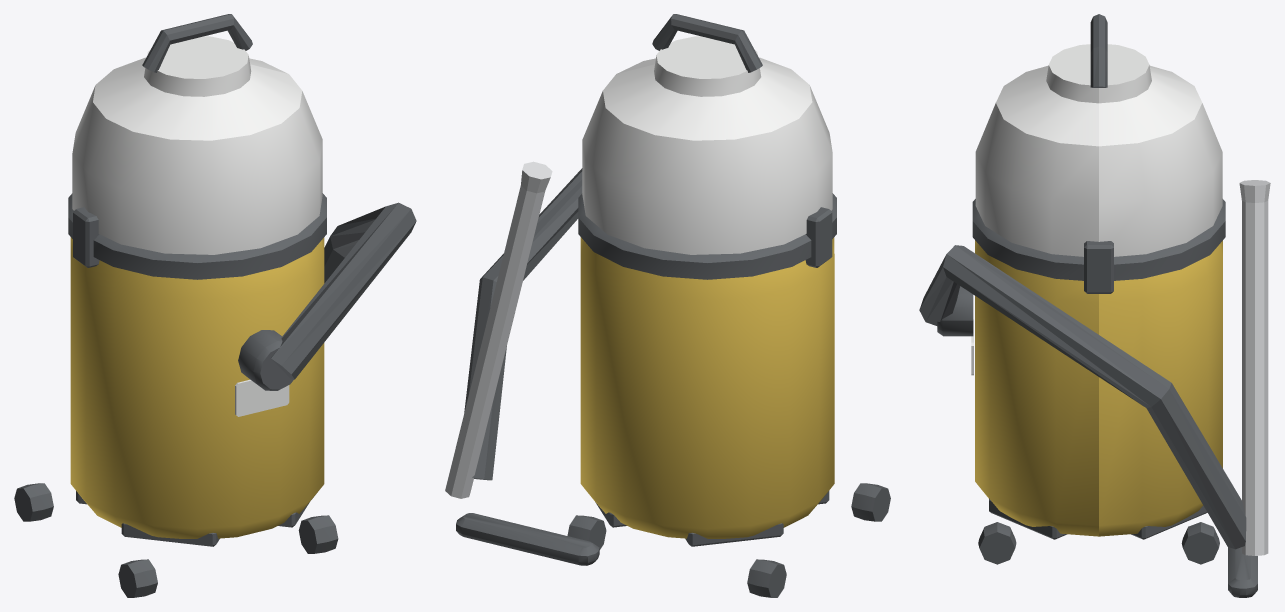
Rendered from laundrette-and-cleaning-wet-vac-d78972c2__25571.glb.
3 renders of one model, left to right at view 1: azimuth 30°, elevation 25°; view 2: azimuth 150°, elevation 25°; view 3: azimuth 270°, elevation 25°, orthographic. The views are drawn at different scales.
Visible parts, largest first — view 1: wet-vac; view 2: wet-vac; view 3: wet-vac.
Part boxes in pixels (x1=…): wet-vac: x1=14, y1=14, x2=416, y2=597; wet-vac: x1=445, y1=14, x2=890, y2=597; wet-vac: x1=919, y1=14, x2=1270, y2=597.
Size of the model in its own units: 0.5988 by 0.9153 by 0.5857.
